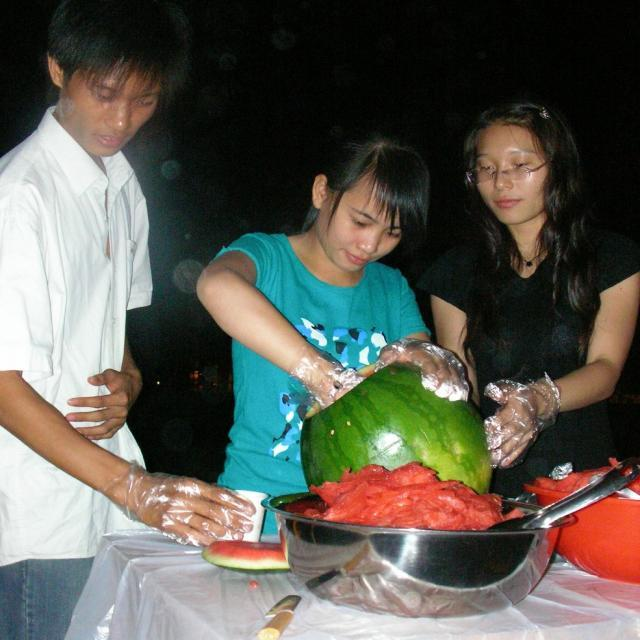Watermelon: (298, 364, 496, 495), (296, 462, 519, 529), (542, 457, 640, 501), (200, 539, 290, 575)
